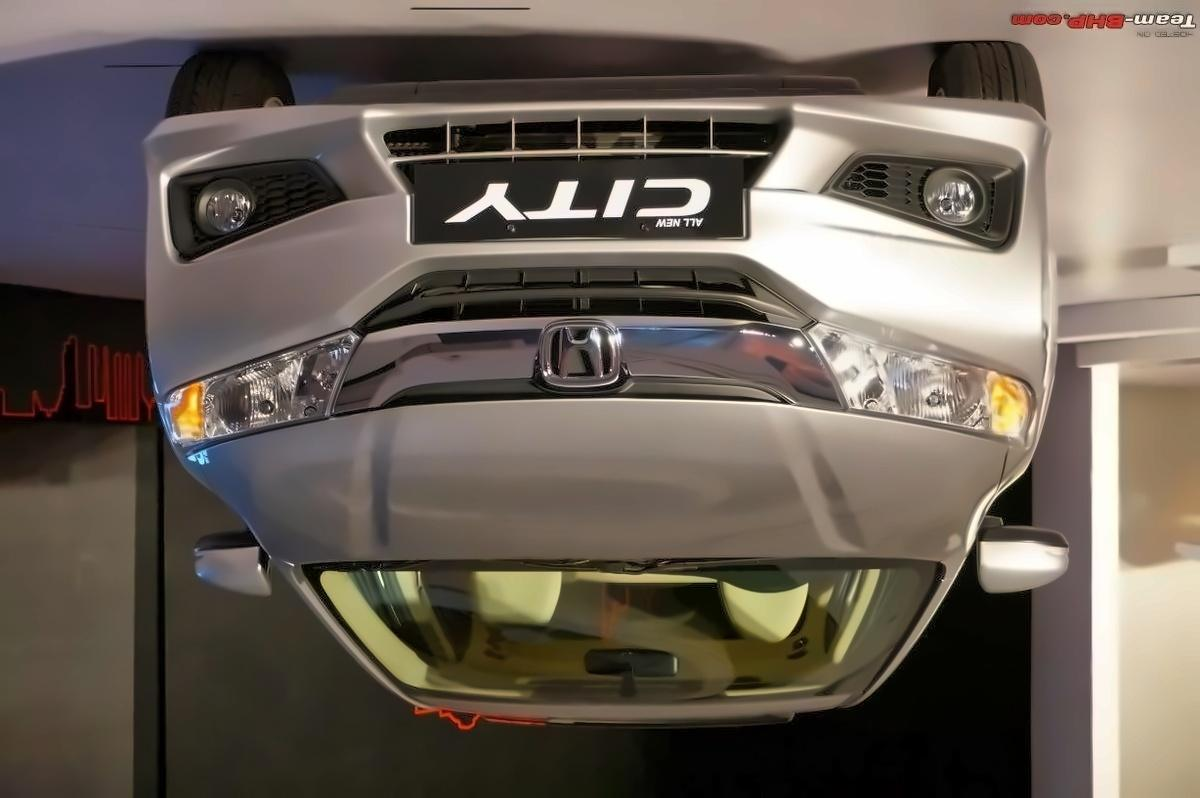Car hood: (179, 405, 1017, 556)
Front bumper: (138, 94, 1060, 365)
Headlight - -L-: (160, 326, 360, 456)
Headlight - -R-: (810, 316, 1035, 445)
Side mirror - -L-: (193, 528, 281, 601)
Side mirror - -R-: (968, 519, 1073, 601)
